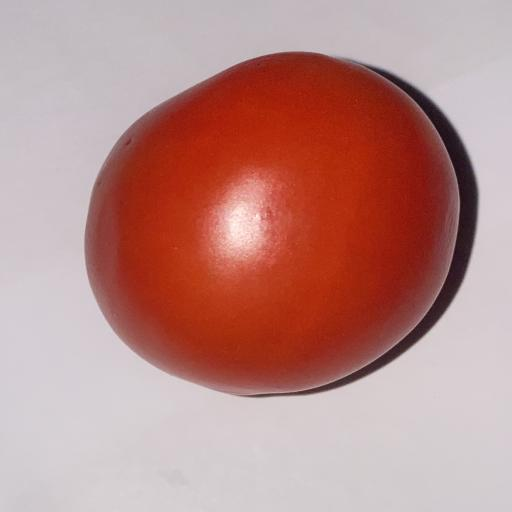ripe: (86, 53, 459, 395)
